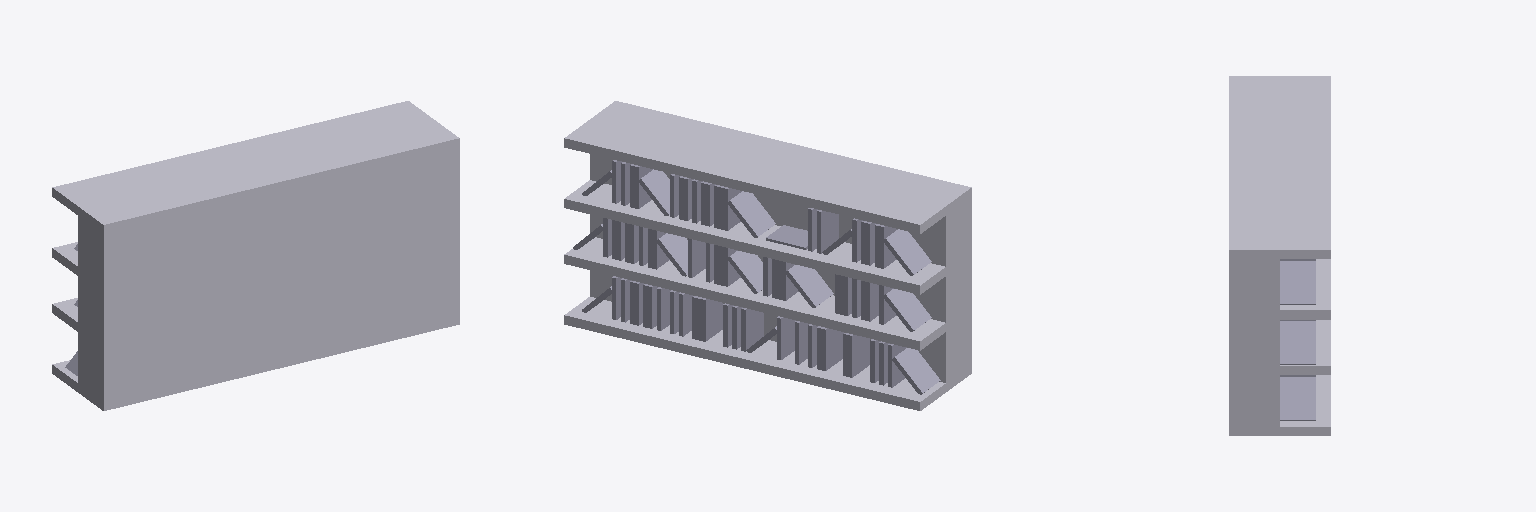
Rendered from bookshelf.obj.
3 renders of one model, left to right at view 1: azimuth 30°, elevation 25°; view 2: azimuth 150°, elevation 25°; view 3: azimuth 270°, elevation 25°, orthographic.
Size of the model in its own units: 8 by 4 by 2.